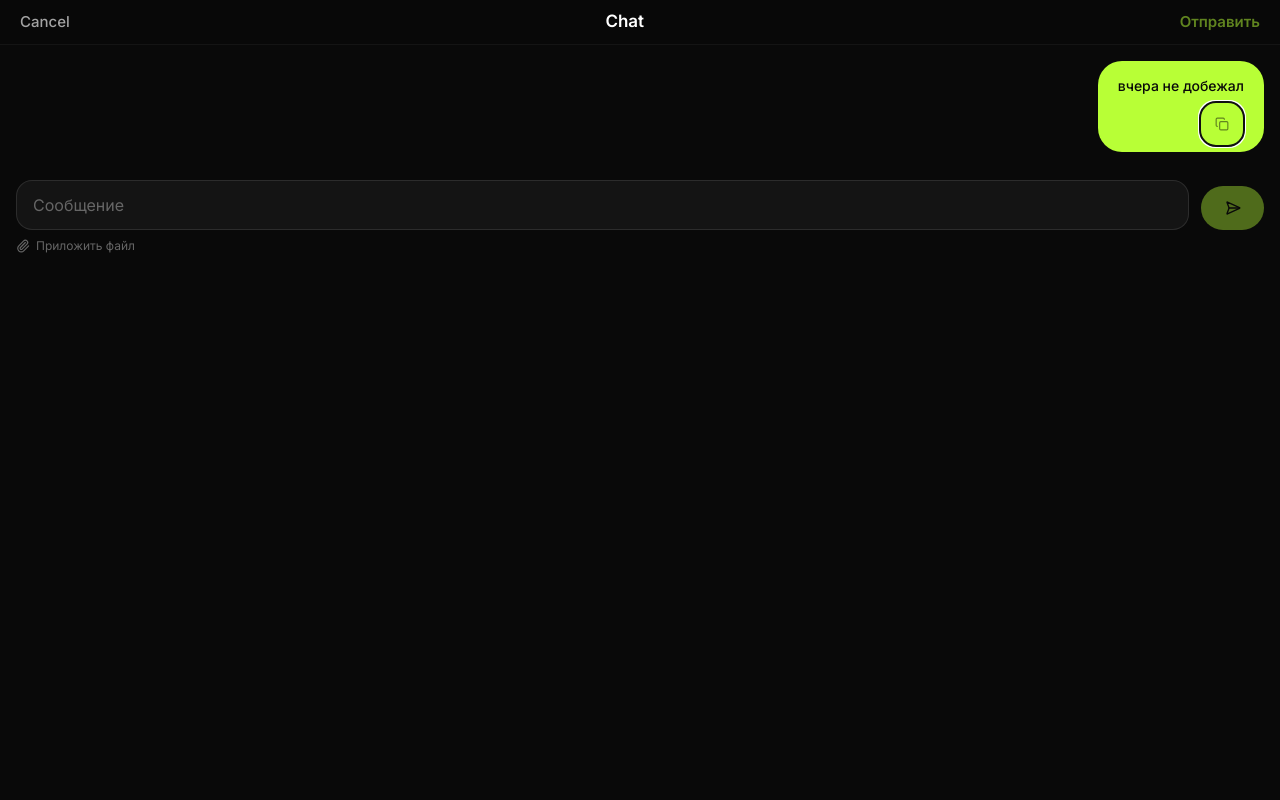
Scenario: a turn in flight, on both shells › names what the model is doing before it has said a word — on the phone
The image size is (1280, 800).
Check: the text "вчера не добежал" is shown, box left=1118, top=77, right=1244, bottom=94
Type "как я спал?" into the text box labelled "Сообщение". click: (602, 205)
box: left=16, top=180, right=1189, bottom=230
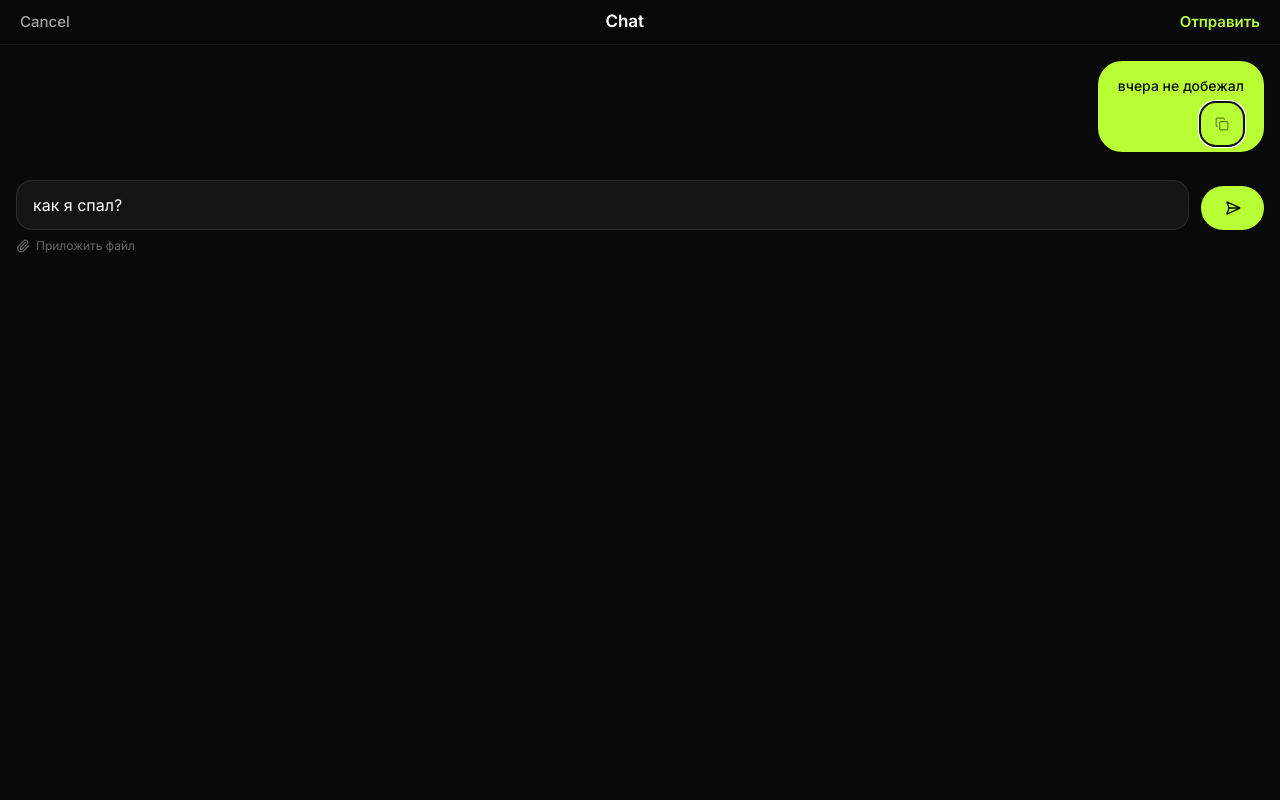
Click the button "Отправить". click: (1220, 22)
box: left=1172, top=0, right=1268, bottom=44
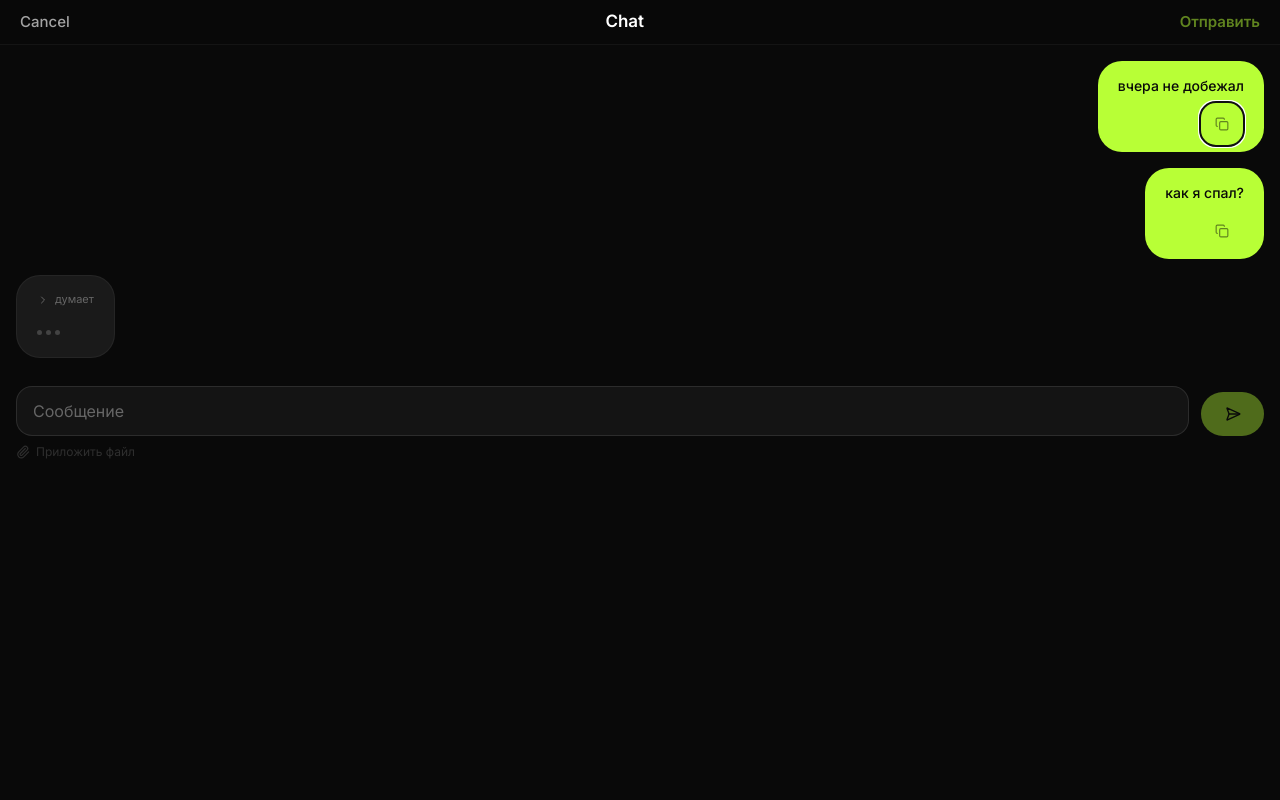
Check: the message with test id "turn-waiting" is shown, box left=37, top=330, right=60, bottom=335
Check: the button with test id "thinking-toggle" reads "думает"
Click the button with test id "thinking-toggle". click: (65, 300)
box: left=37, top=291, right=94, bottom=308
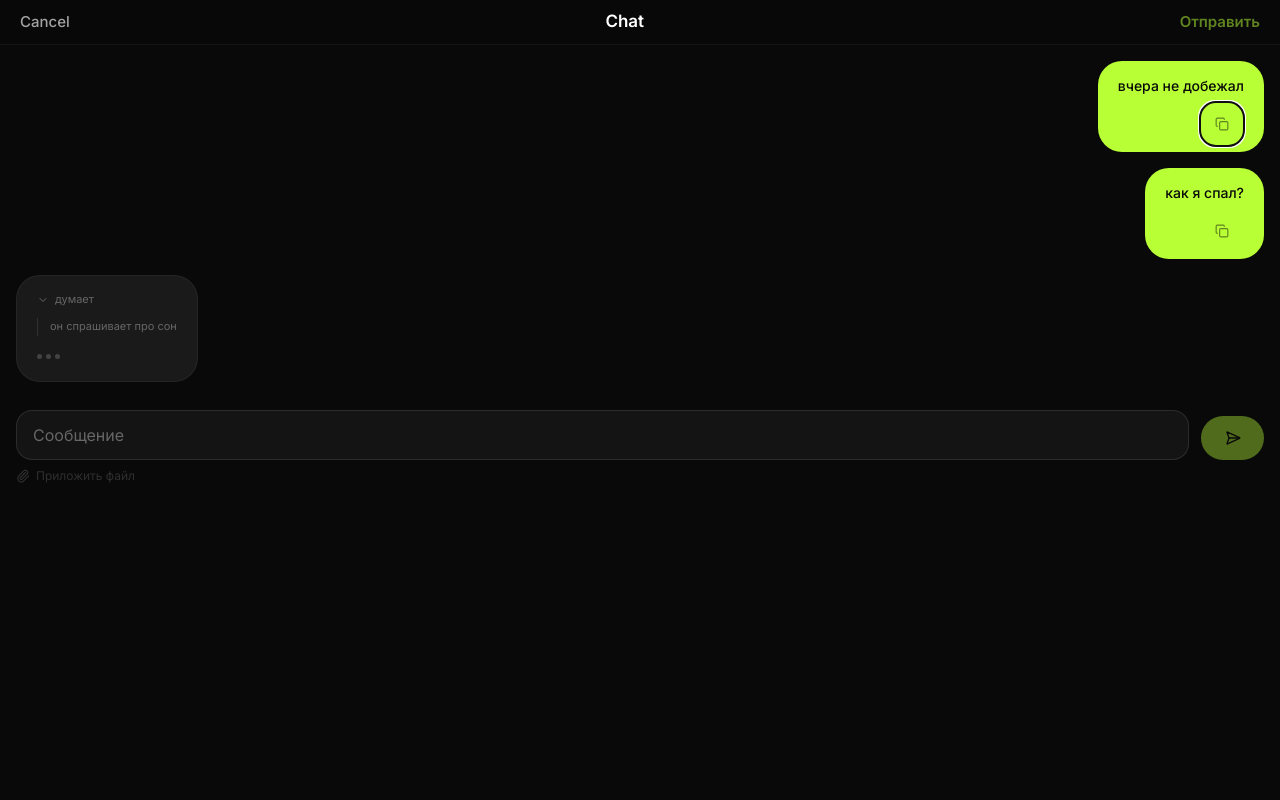
Check: the text with test id "thinking-words" reads "он спрашивает про сон", box left=50, top=319, right=177, bottom=333
